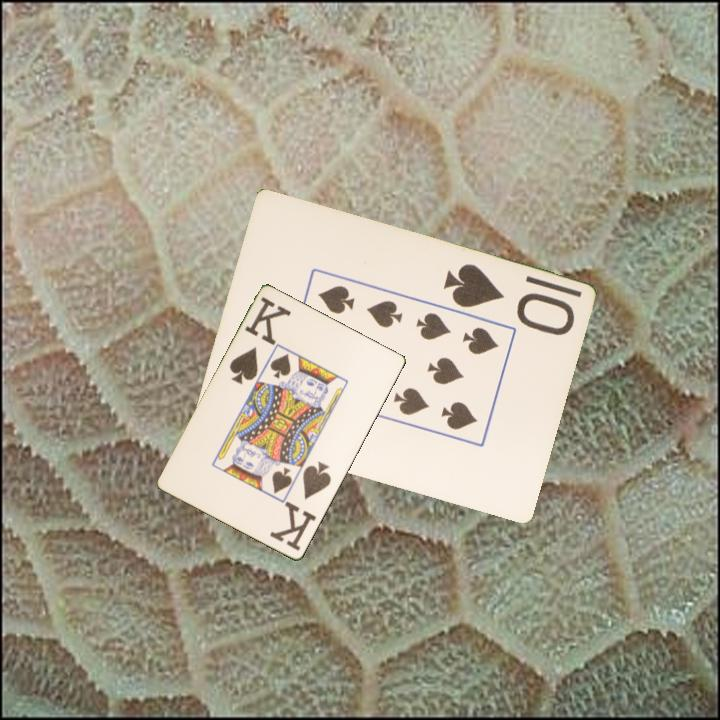10s: (438, 260, 577, 339)
Ks: (226, 293, 294, 388), (267, 458, 334, 554)
